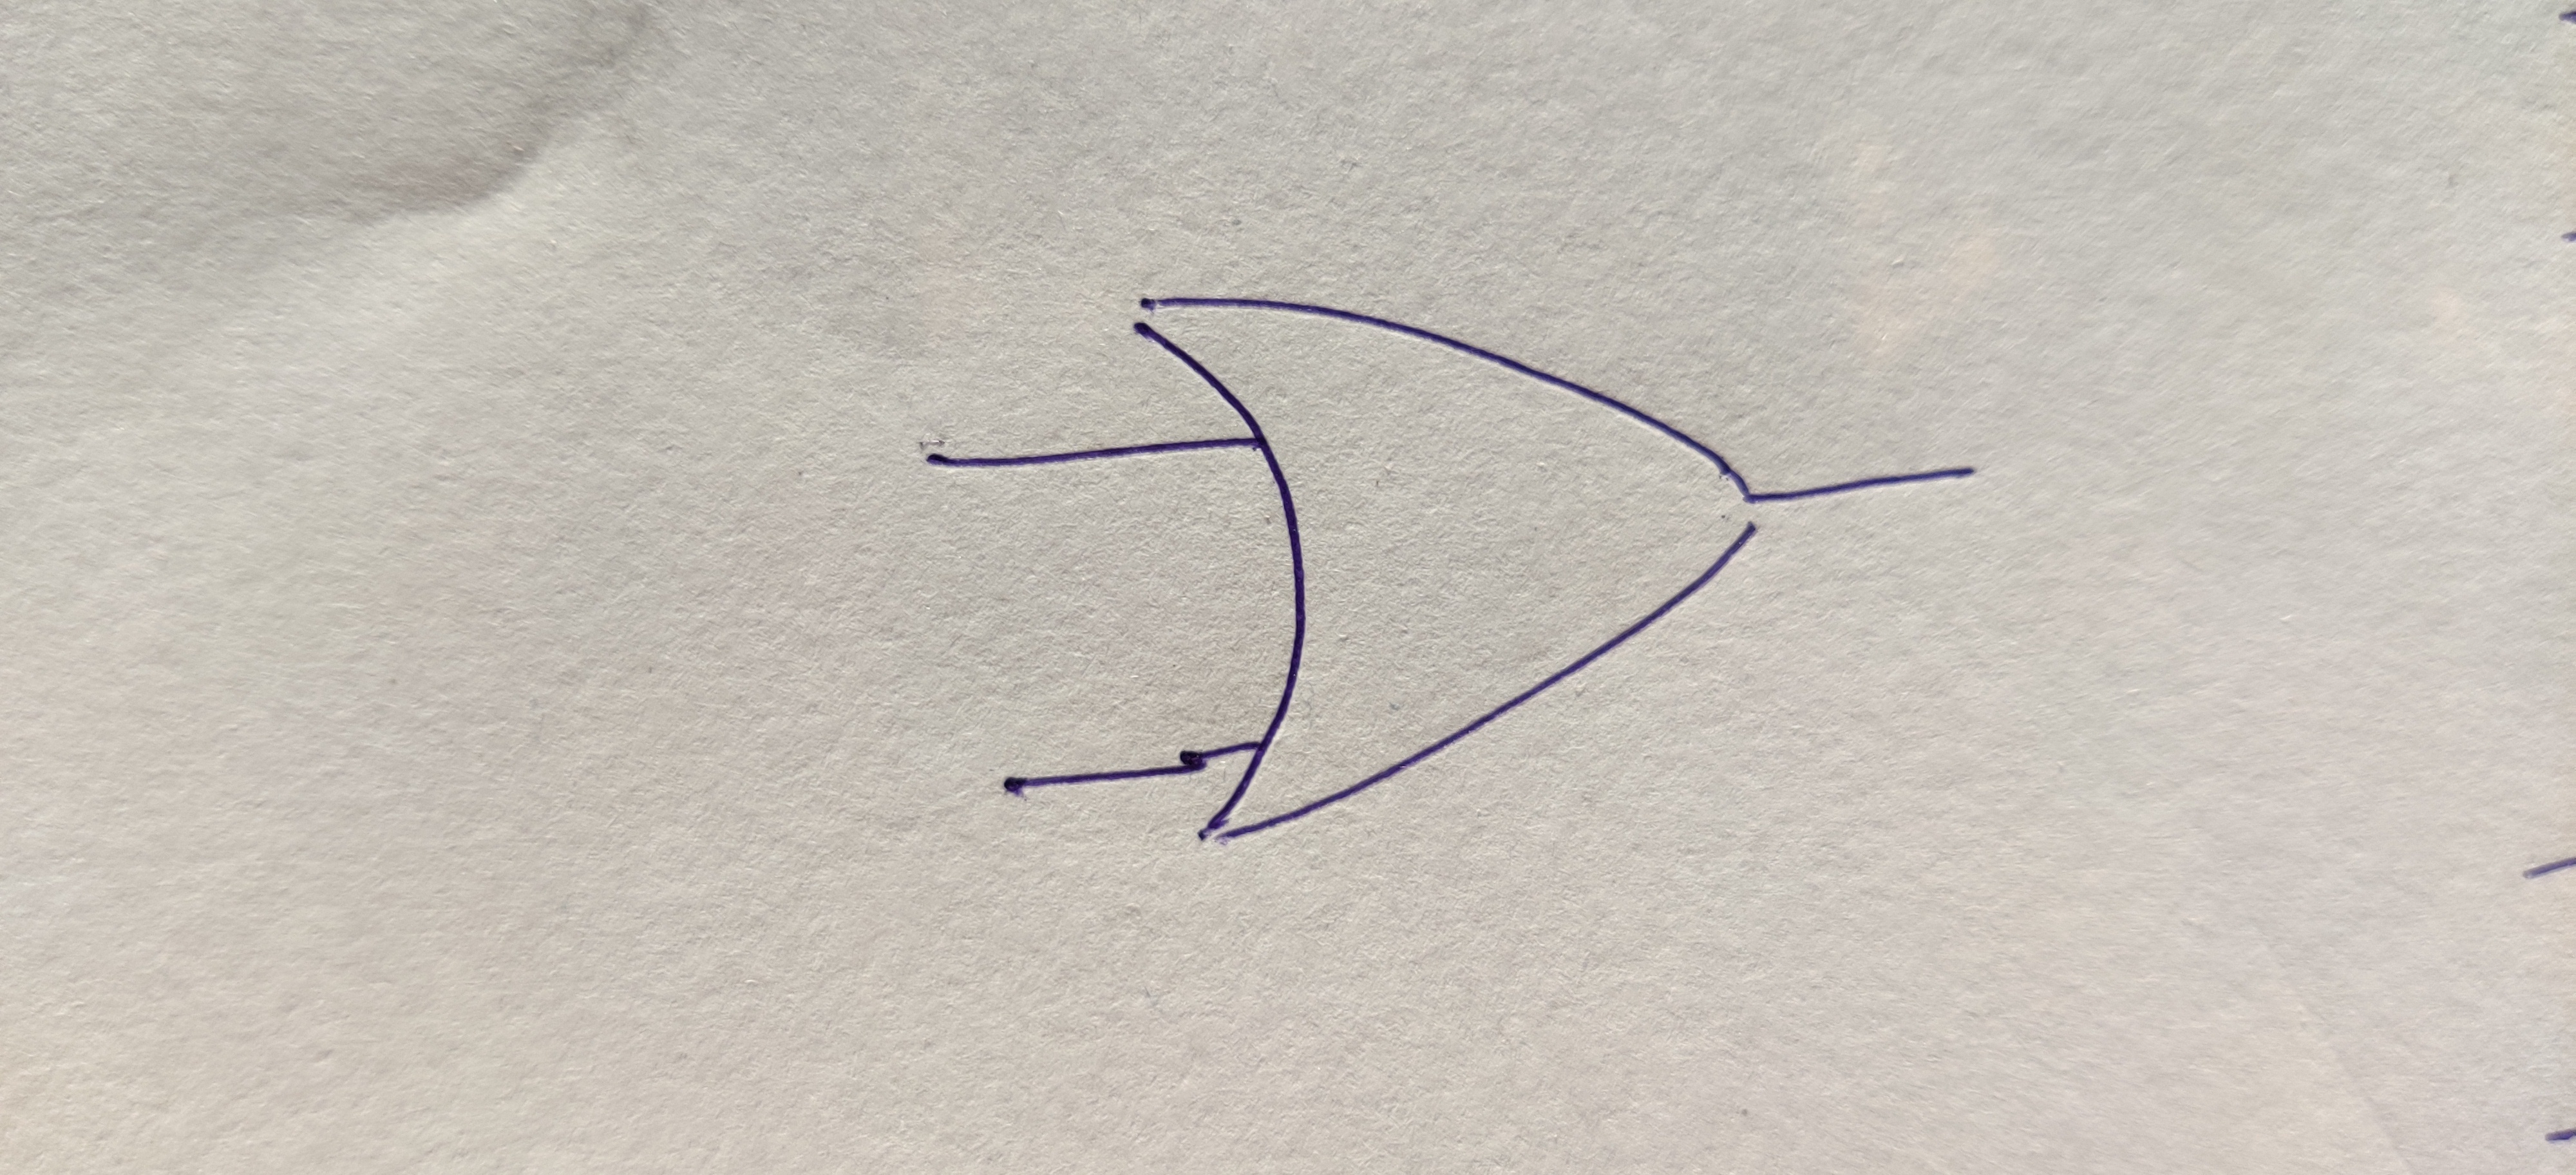or: (1135, 299, 1756, 836)
